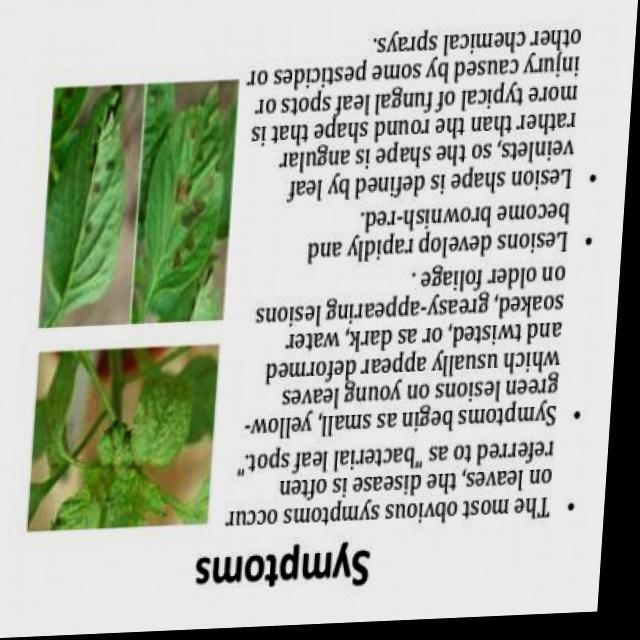Tomato late blight leaf: (48, 97, 134, 326), (144, 96, 230, 319), (132, 361, 202, 466)
